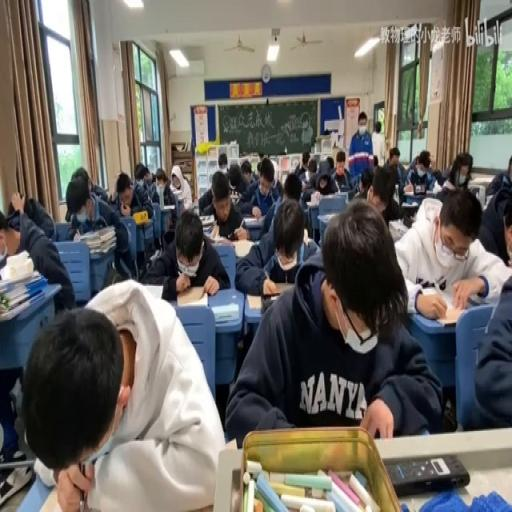calculator: (418, 289, 466, 324), (11, 475, 51, 512), (0, 292, 43, 320), (0, 268, 42, 294), (174, 282, 214, 304), (210, 300, 238, 322), (231, 238, 256, 258), (468, 182, 486, 206), (266, 282, 294, 296), (140, 282, 164, 298), (199, 212, 215, 235), (389, 218, 409, 236), (244, 293, 262, 309), (212, 233, 234, 246), (134, 212, 154, 225), (401, 195, 423, 205), (242, 214, 262, 224), (316, 191, 338, 199), (346, 186, 358, 200), (430, 180, 442, 194), (172, 189, 185, 201), (148, 248, 160, 260), (302, 180, 312, 194), (322, 211, 338, 219), (403, 182, 414, 193), (306, 198, 320, 206), (229, 192, 239, 202), (160, 204, 174, 210)
paper: (222, 201, 432, 445), (22, 279, 221, 509), (391, 184, 509, 314), (144, 206, 227, 297), (66, 171, 132, 283), (366, 162, 410, 228), (8, 190, 55, 238), (435, 152, 474, 196), (402, 148, 437, 196), (150, 165, 177, 220), (226, 160, 254, 208), (484, 154, 512, 202), (328, 151, 354, 192), (370, 118, 386, 168), (352, 164, 372, 199), (102, 260, 127, 286), (384, 144, 403, 174), (282, 172, 300, 202), (292, 152, 309, 181), (258, 161, 274, 189), (71, 165, 88, 188), (134, 162, 150, 184), (217, 150, 228, 174), (107, 179, 118, 201), (116, 186, 129, 202), (306, 161, 316, 175), (326, 156, 334, 170), (428, 155, 435, 169), (256, 161, 262, 175), (372, 155, 378, 165), (322, 128, 330, 134)
person: (386, 452, 468, 494), (466, 290, 492, 307), (261, 293, 277, 313)
